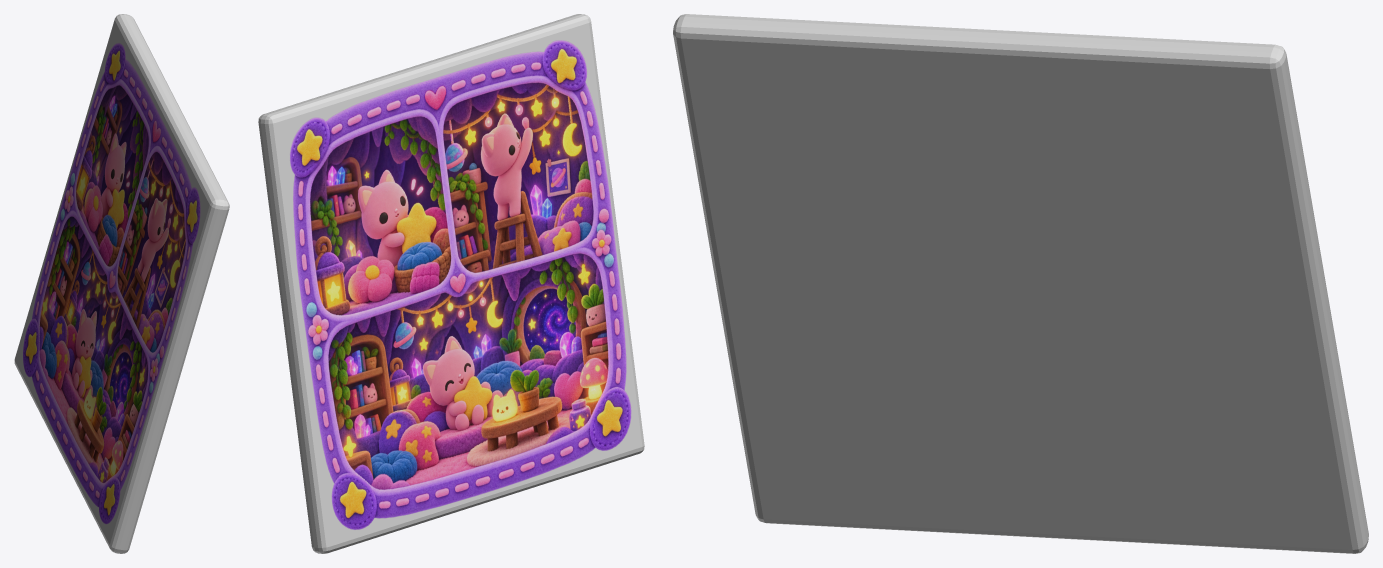
The model's file is memory_10.glb.
3 renders of one model, left to right at view 1: azimuth 30°, elevation 25°; view 2: azimuth 150°, elevation 25°; view 3: azimuth 270°, elevation 25°, orthographic. The views are drawn at different scales.
Parts seen in each view (by area): view 1: memory_10_page; view 2: memory_10_page; view 3: memory_10_page.
Boxes of the visible parts, box(x1,y1,x2,y2) form: memory_10_page: box(14, 14, 229, 553); memory_10_page: box(258, 14, 644, 553); memory_10_page: box(673, 14, 1368, 553).
Size of what is drawn, in the model's own units: 0.4183 by 0.8313 by 0.8741.
2 materials, 1 textured.
